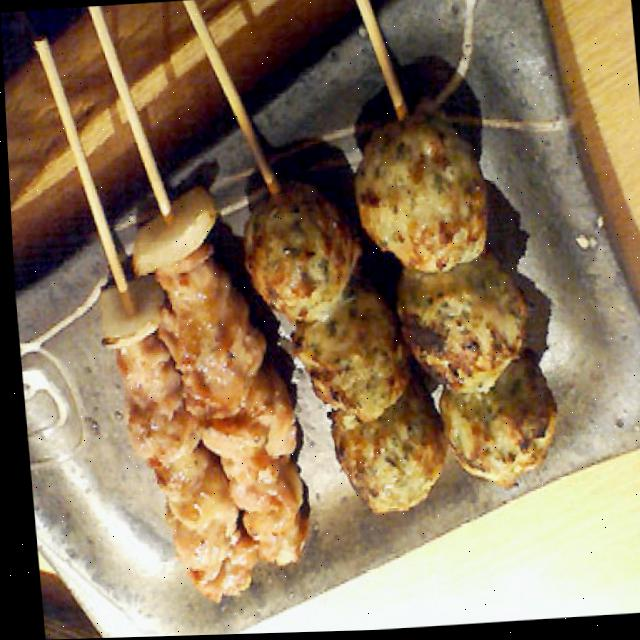烧串烤肉: (65, 0, 572, 620)
